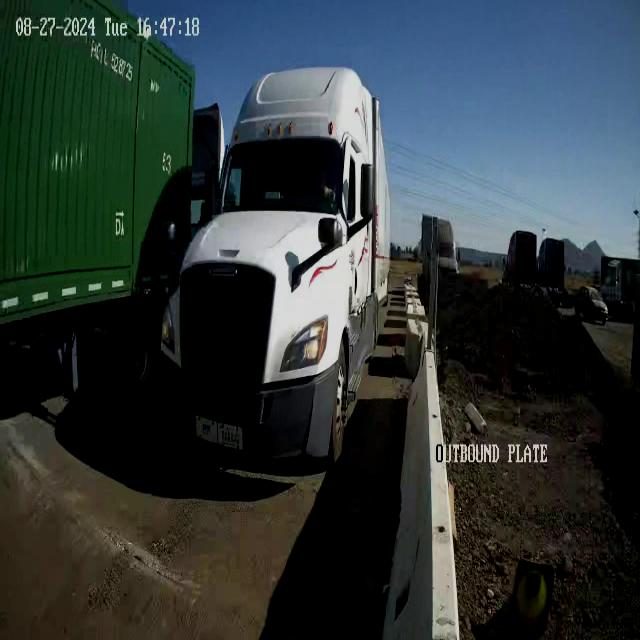CONTAINER: (0, 5, 196, 318), (358, 78, 398, 330)
